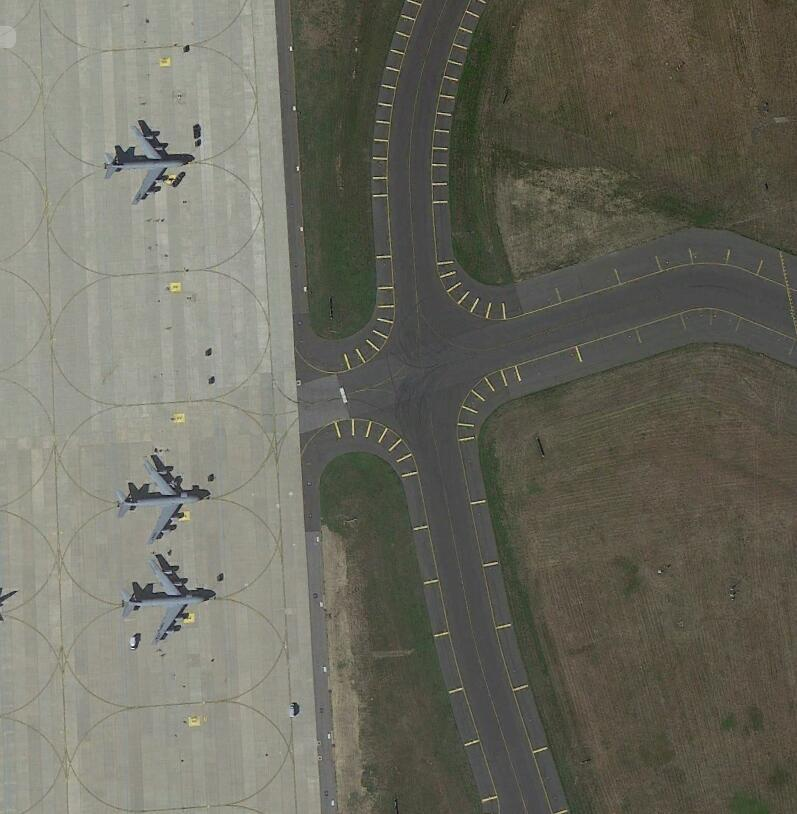A14: (114, 445, 214, 542), (115, 549, 215, 646), (102, 124, 195, 209)
